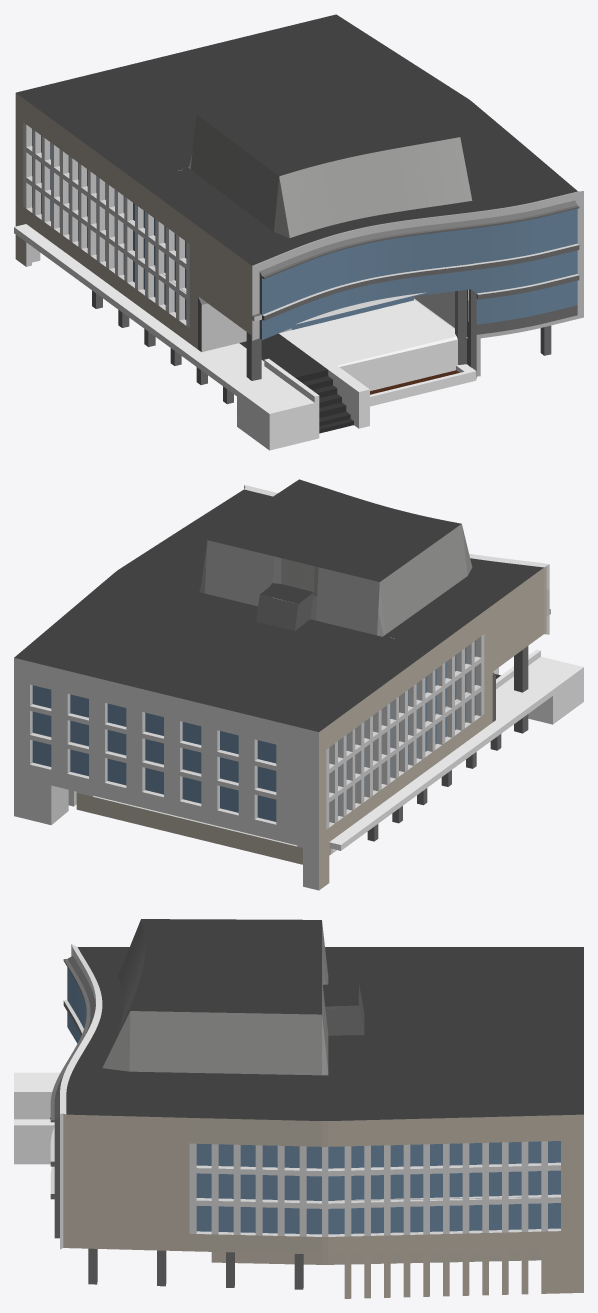
Rendered from schoolbuilding.fbx.
3 renders of one model, top to bottom at view 1: azimuth 30°, elevation 25°; view 2: azimuth 150°, elevation 25°; view 3: azimuth 270°, elevation 25°, orthographic. The views are drawn at different scales.
Visible parts, largest first — view 1: Cube, Cube.001, Cube.004, Cube.002, Cube.005; view 2: Cube, Cube.001, Cube.004, Cube.005; view 3: Cube, Cube.001, Cube.006.
Boxes of the visible parts, x1,y1,x2,y2 form: Cube: (15,14,583,378); Cube.001: (14,224,476,450); Cube.004: (92,290,233,404); Cube.002: (455,290,466,364); Cube.005: (246,332,261,380); Cube: (14,479,550,890); Cube.001: (329,649,583,850); Cube.004: (367,734,501,841); Cube.005: (514,646,528,733); Cube: (50,919,583,1298); Cube.001: (14,1072,60,1164); Cube.006: (88,1248,303,1289).
Bounding box in the file's own units: 580 × 354 × 774.
